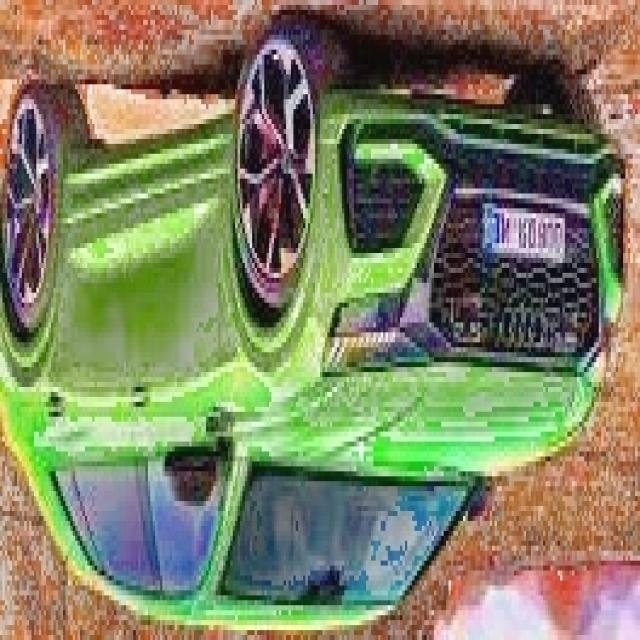green: (0, 12, 628, 628)
